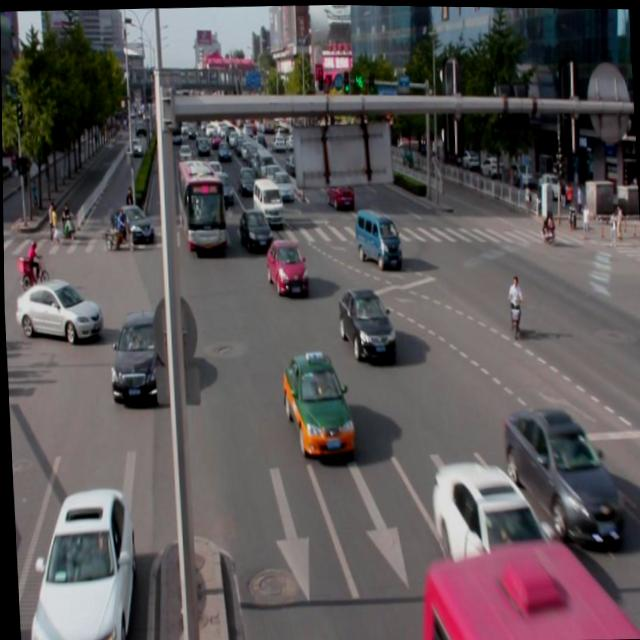car: (429, 454, 551, 608), (502, 400, 624, 551), (22, 482, 136, 640), (279, 349, 352, 455), (106, 307, 165, 405), (337, 284, 393, 363), (264, 238, 307, 297), (237, 204, 272, 252)
truck: (352, 206, 401, 268)
van: (418, 531, 640, 640)
